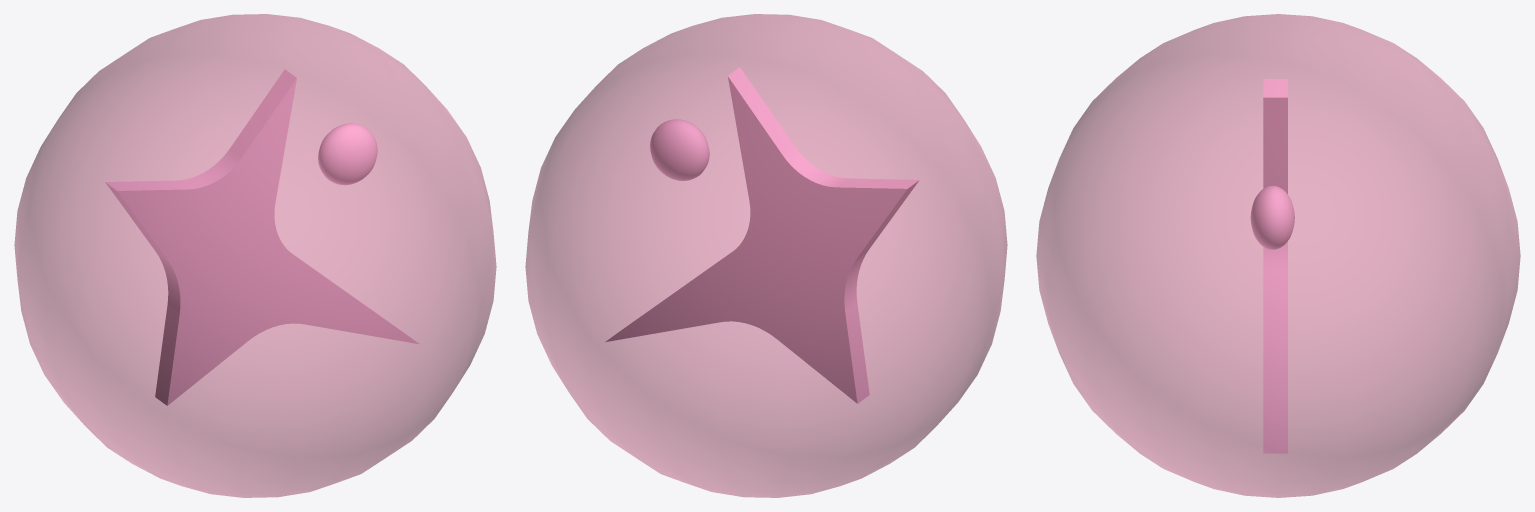
File: Bulle_Game_Jam.fbx
The picture shows the model from 3 angles, left to right: view 1: azimuth 30°, elevation 25°; view 2: azimuth 150°, elevation 25°; view 3: azimuth 270°, elevation 25°; orthographic projection.
Visible parts, largest first — view 1: pSphere1, pCube2, pSphere2; view 2: pSphere1, pCube2, pSphere2; view 3: pSphere1, pCube2, pSphere2.
Boxes of the visible parts, x1,y1,x2,y2 form: pSphere1: (14, 14, 496, 497); pCube2: (105, 69, 418, 405); pSphere2: (318, 123, 377, 185); pSphere1: (525, 14, 1007, 497); pCube2: (606, 67, 919, 403); pSphere2: (650, 119, 709, 180); pSphere1: (1036, 14, 1520, 497); pCube2: (1263, 79, 1287, 453); pSphere2: (1250, 186, 1294, 249).
Bounding box in the file's own units: 107 × 107 × 107.
